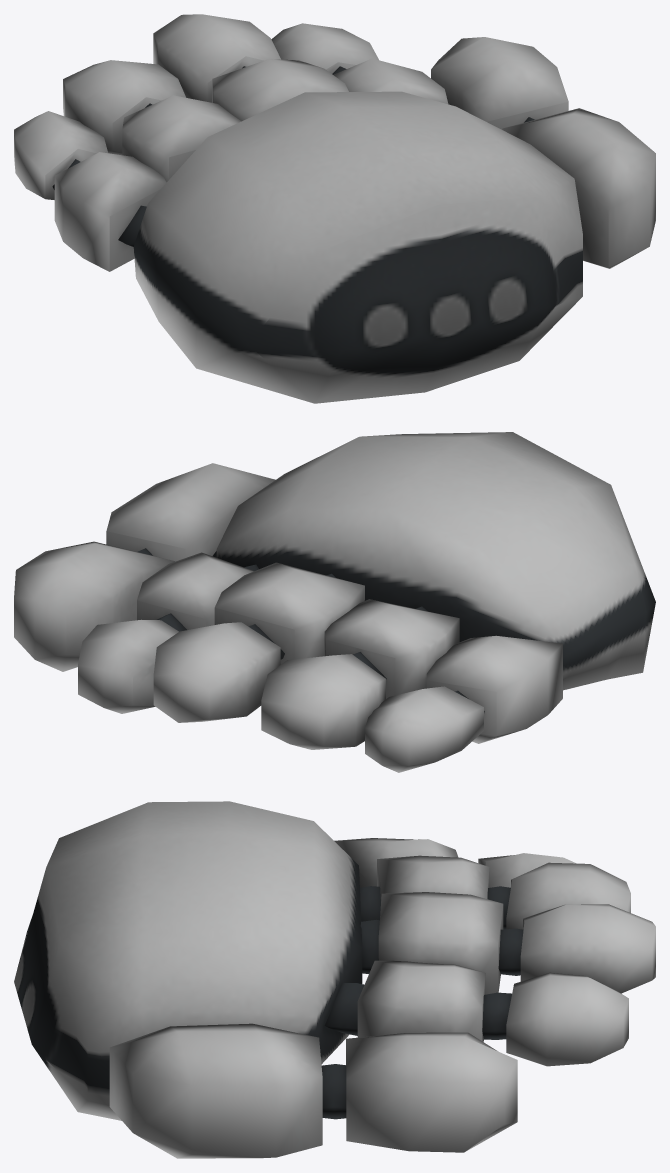
File: left-hand.glb
3 renders of one model, top to bottom at view 1: azimuth 30°, elevation 25°; view 2: azimuth 150°, elevation 25°; view 3: azimuth 270°, elevation 25°, orthographic. The views are drawn at different scales.
Visible parts, largest first — view 1: Robot001_mesh; view 2: Robot001_mesh; view 3: Robot001_mesh.
Part boxes in pixels (bbox=[...]): Robot001_mesh: bbox=[14, 14, 655, 403]; Robot001_mesh: bbox=[14, 432, 655, 772]; Robot001_mesh: bbox=[14, 801, 655, 1158].
Size of the model in its own units: 0.2787 by 0.1234 by 0.3055.
Materials: 1 (1 with a texture image).
